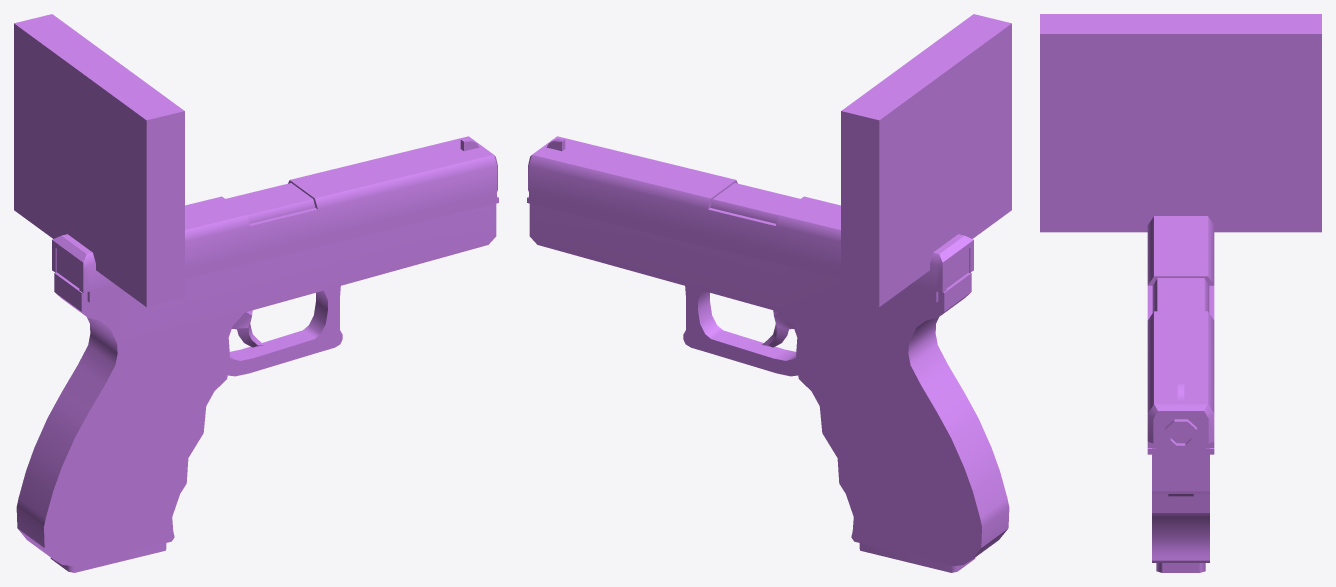
File: CloneTool.obj
3 views of the same model, side by side, from view 1: azimuth 30°, elevation 25°; view 2: azimuth 150°, elevation 25°; view 3: azimuth 270°, elevation 25° (orthographic). The views are drawn at different scales.
Visible parts, largest first — view 1: Handle, Display; view 2: Handle, Display; view 3: Display, Handle.
Boxes of the visible parts, x1,y1,x2,y2 form: Handle: [16, 136, 498, 572]; Display: [14, 14, 184, 307]; Handle: [527, 136, 1009, 572]; Display: [841, 14, 1011, 307]; Display: [1040, 14, 1321, 232]; Handle: [1147, 216, 1214, 572].
Bounding box in the file's own units: 0.7168 × 0.7318 × 0.36.
